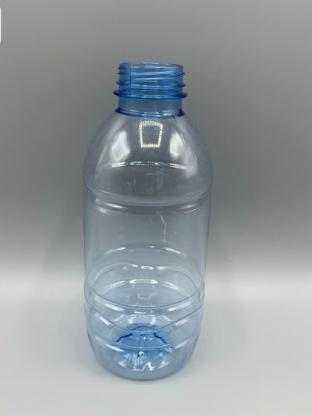Plastic Bottle: (78, 52, 228, 386)
